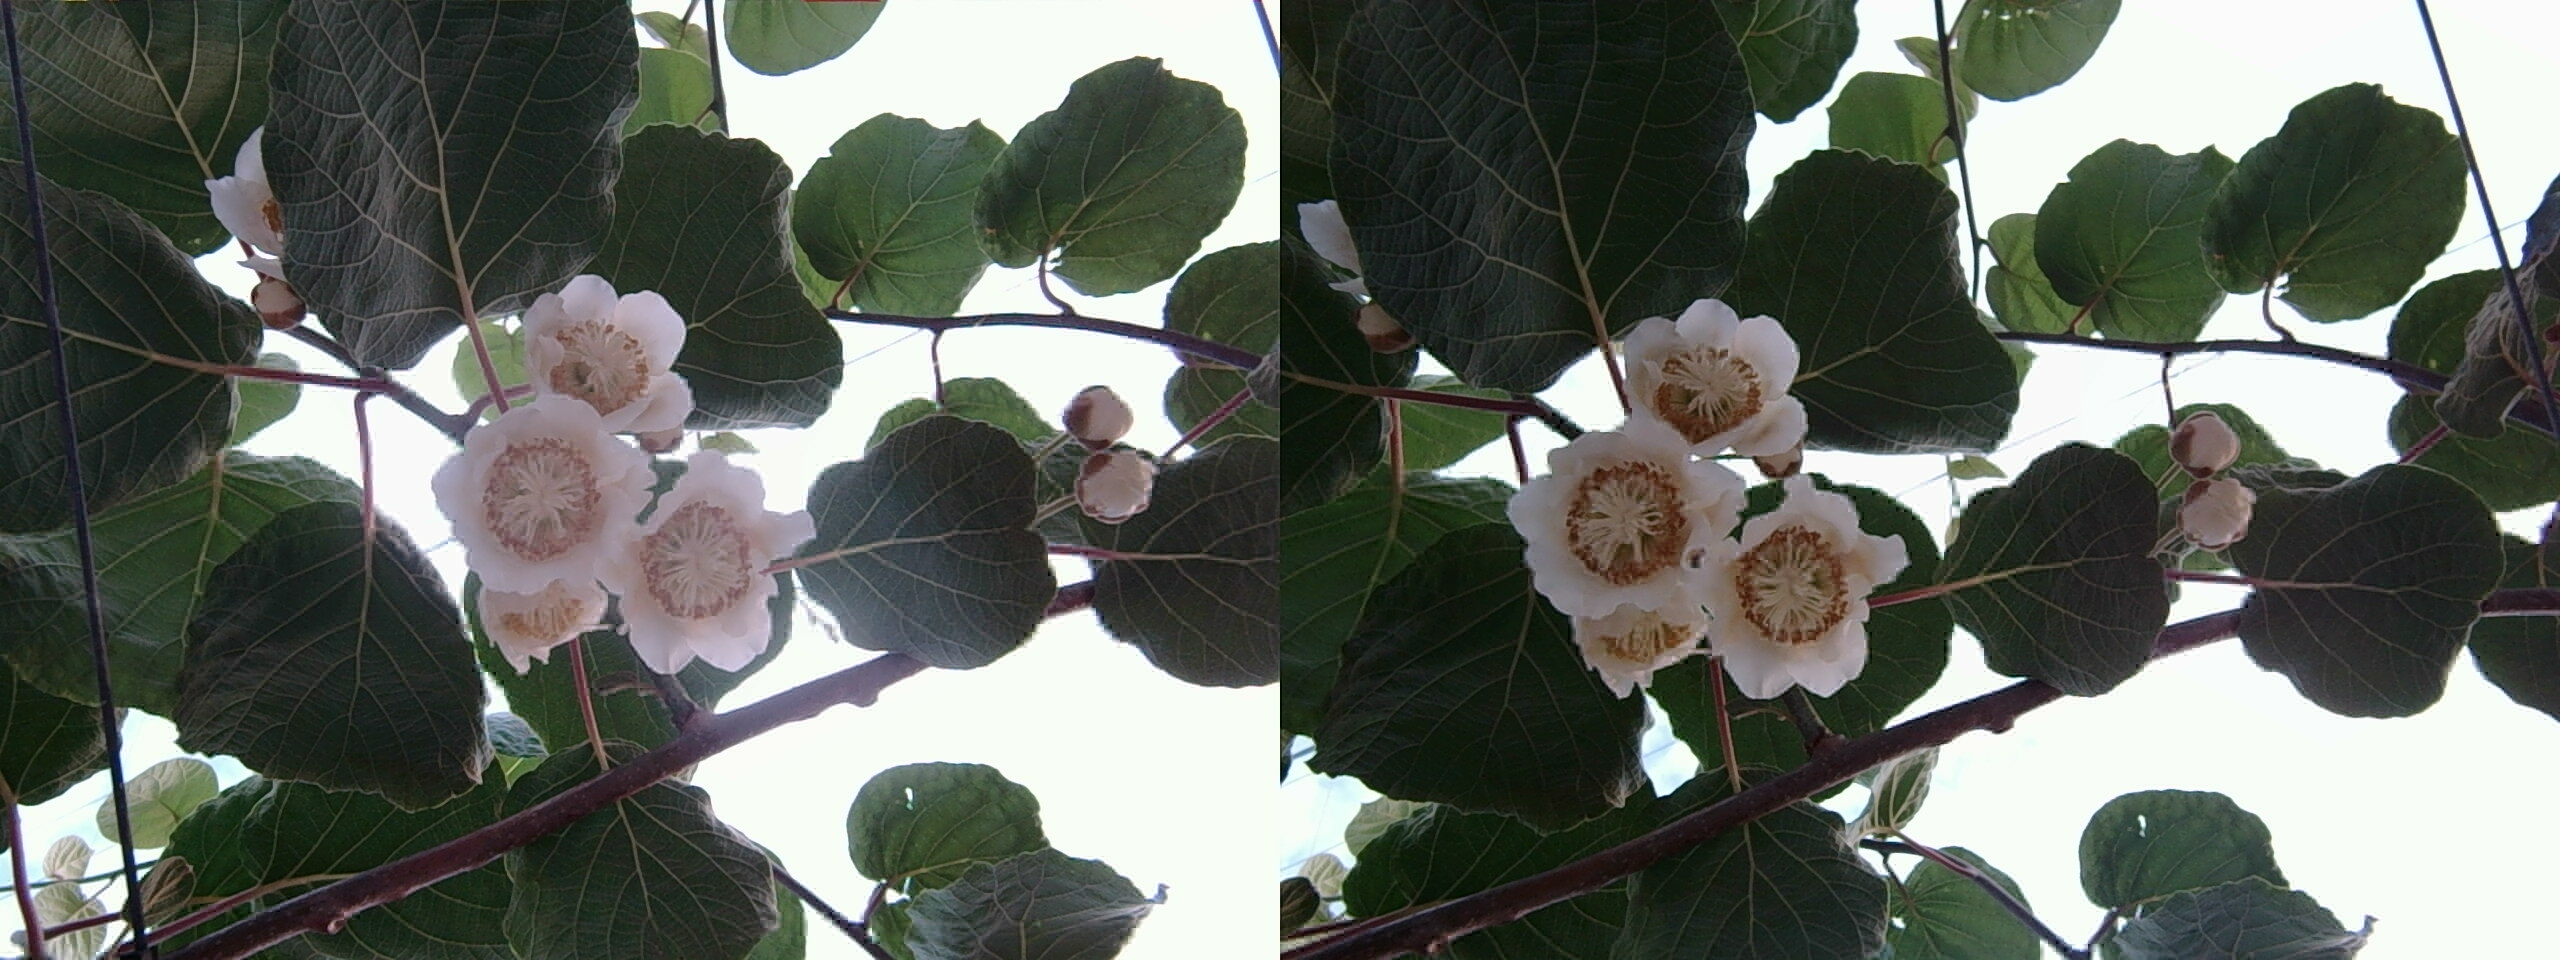flower: (1510, 410, 1736, 653), (426, 389, 656, 616), (1687, 473, 1909, 699), (593, 452, 811, 674), (1615, 292, 1804, 459), (519, 268, 689, 439)
